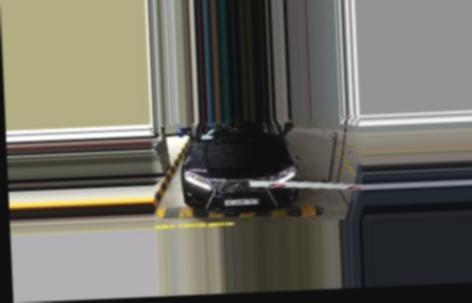License_Plate: (223, 195, 260, 207)
